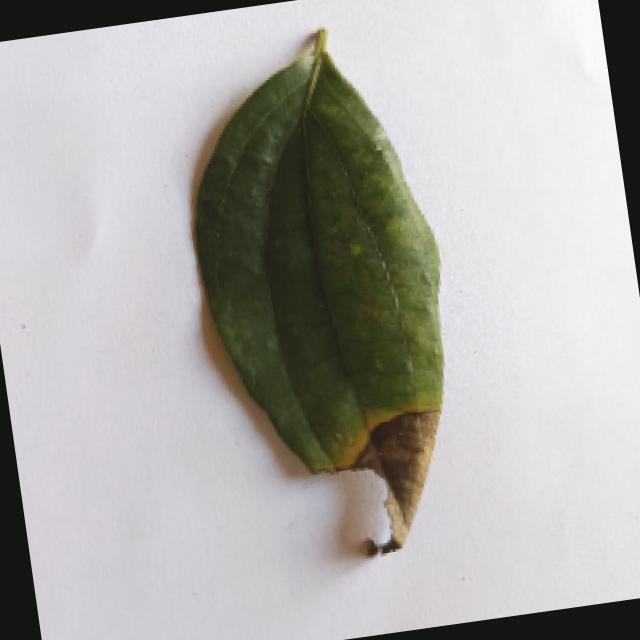footrot: (159, 15, 482, 572)
